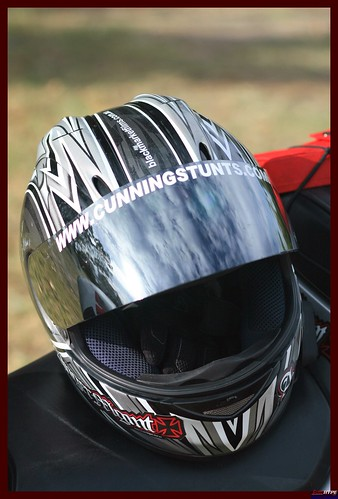helmet: (18, 98, 312, 462)
